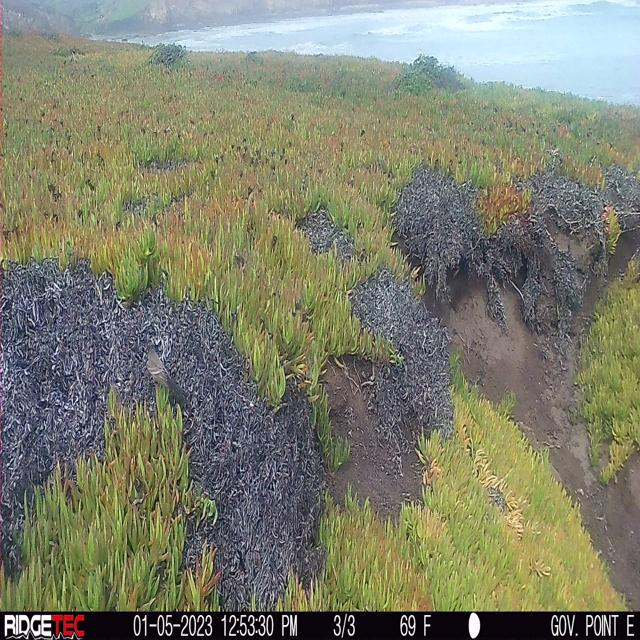bird: (140, 330, 193, 407)
